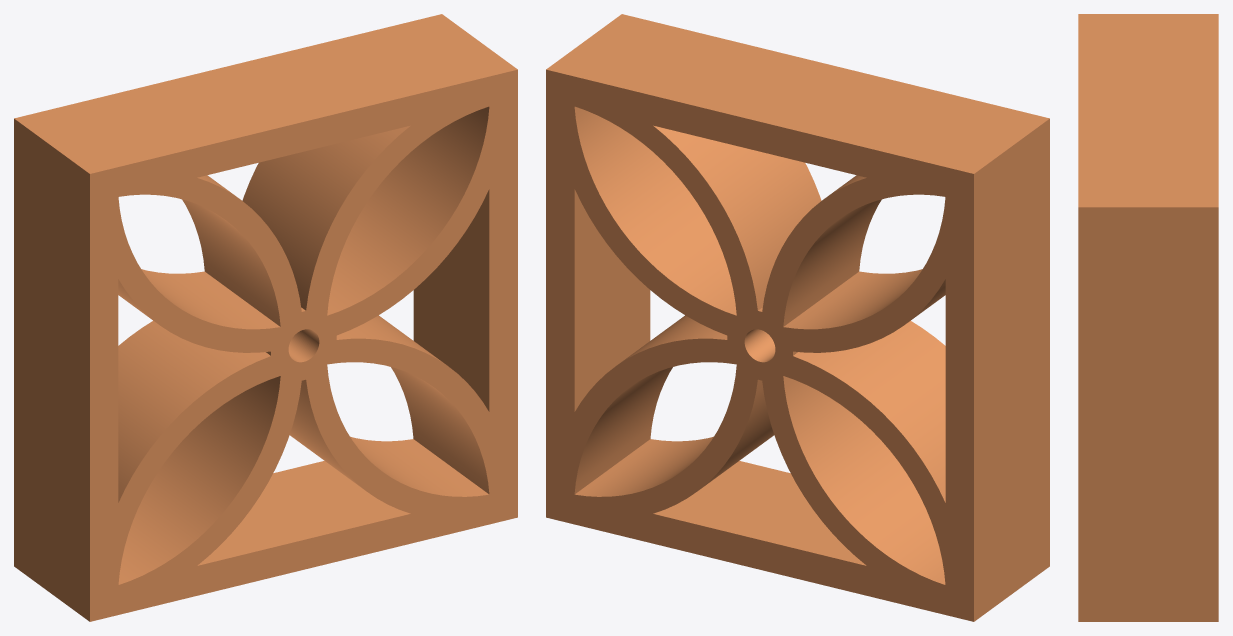
The model's file is Amber-Jaali.gltf.
The picture shows the model from 3 angles, left to right: view 1: azimuth 30°, elevation 25°; view 2: azimuth 150°, elevation 25°; view 3: azimuth 270°, elevation 25°; orthographic projection. The views are drawn at different scales.
Visible parts, largest first — view 1: 5790; view 2: 5790; view 3: 5790.
Boxes of the visible parts, box(x1,y1,x2,y2) form: 5790: box(14, 14, 517, 621); 5790: box(546, 14, 1049, 621); 5790: box(1078, 14, 1218, 621).
Bounding box in the file's own units: 0.1953 × 0.1953 × 0.06.
